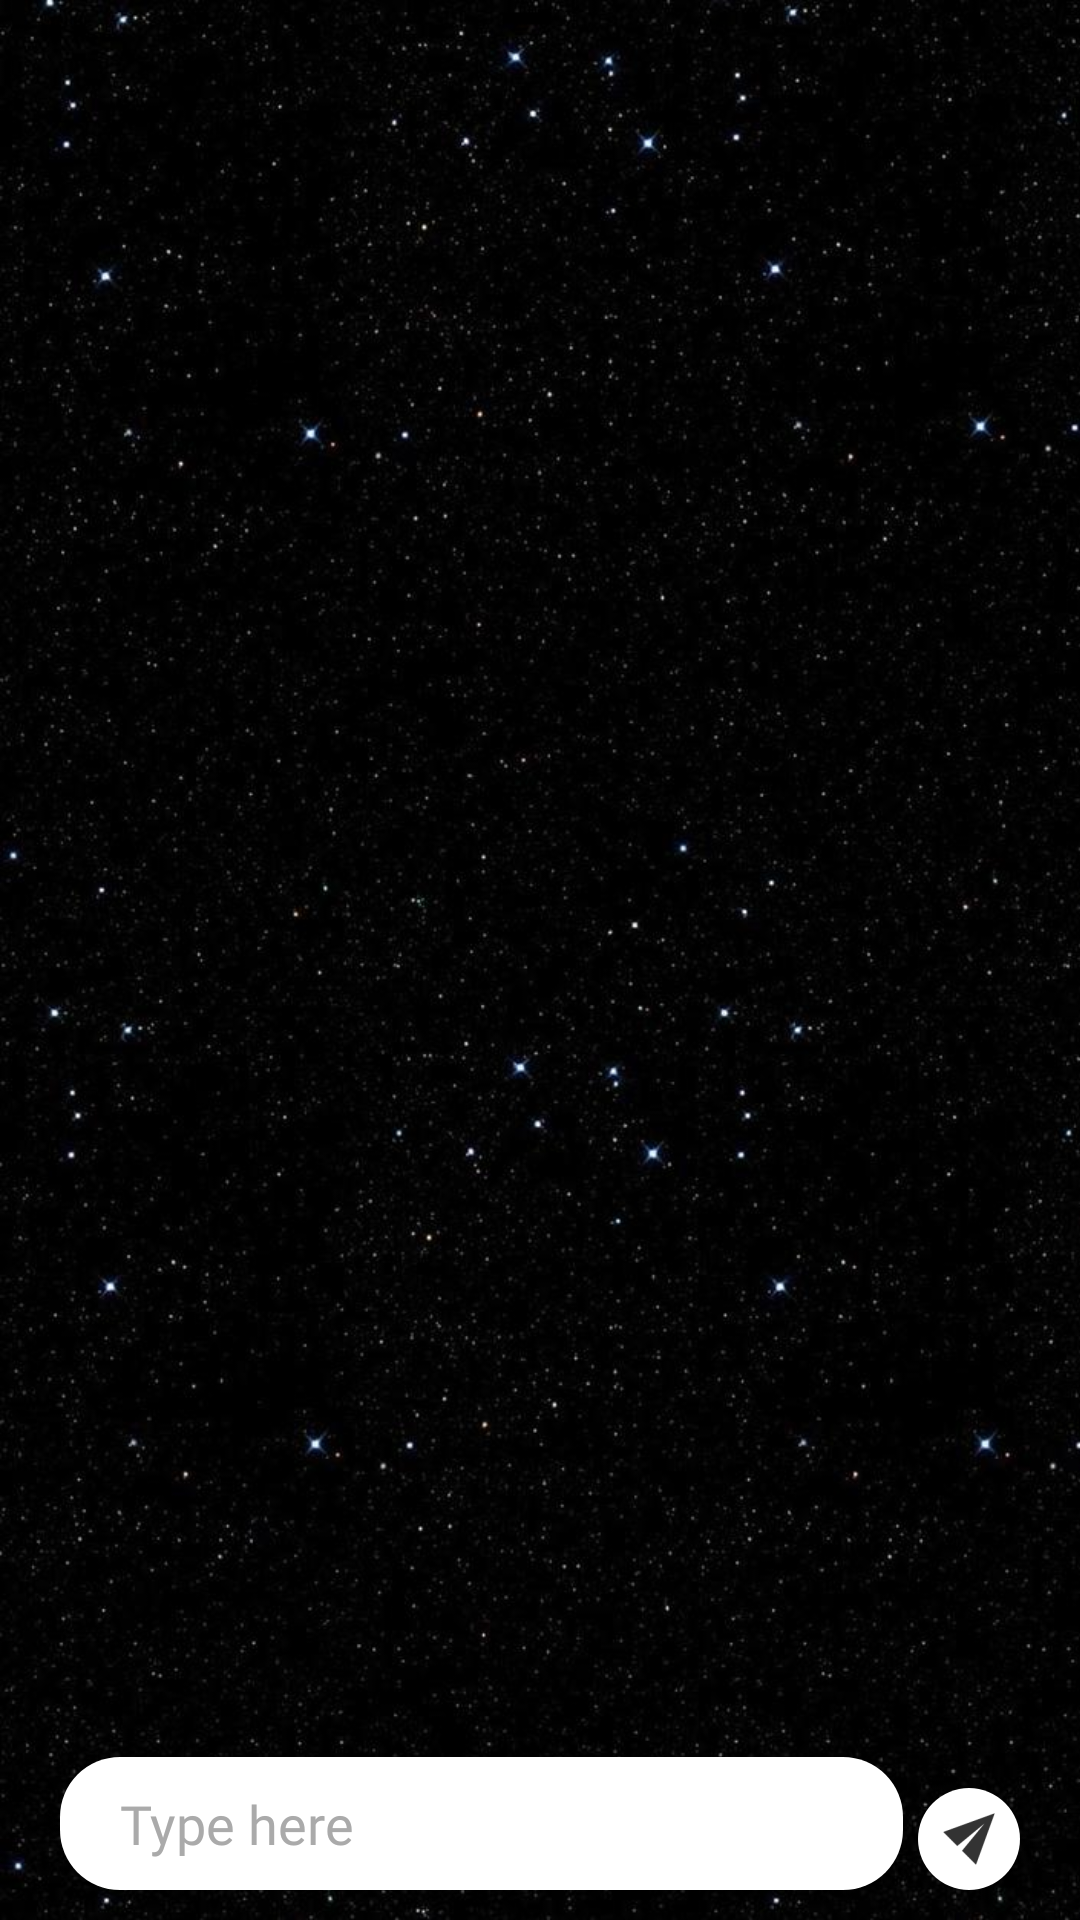

Icon click points for this 1080 × 1920 phone screenshot, format point (x, y):
send: point (969, 1839)
